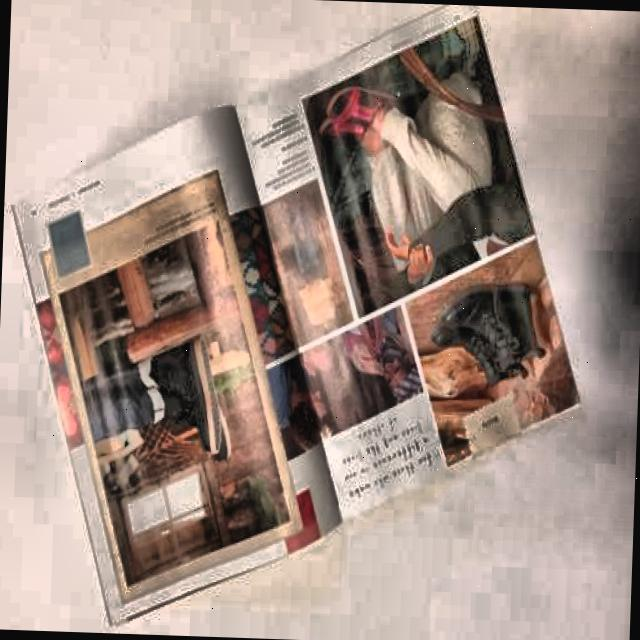paper: (4, 94, 600, 536)
